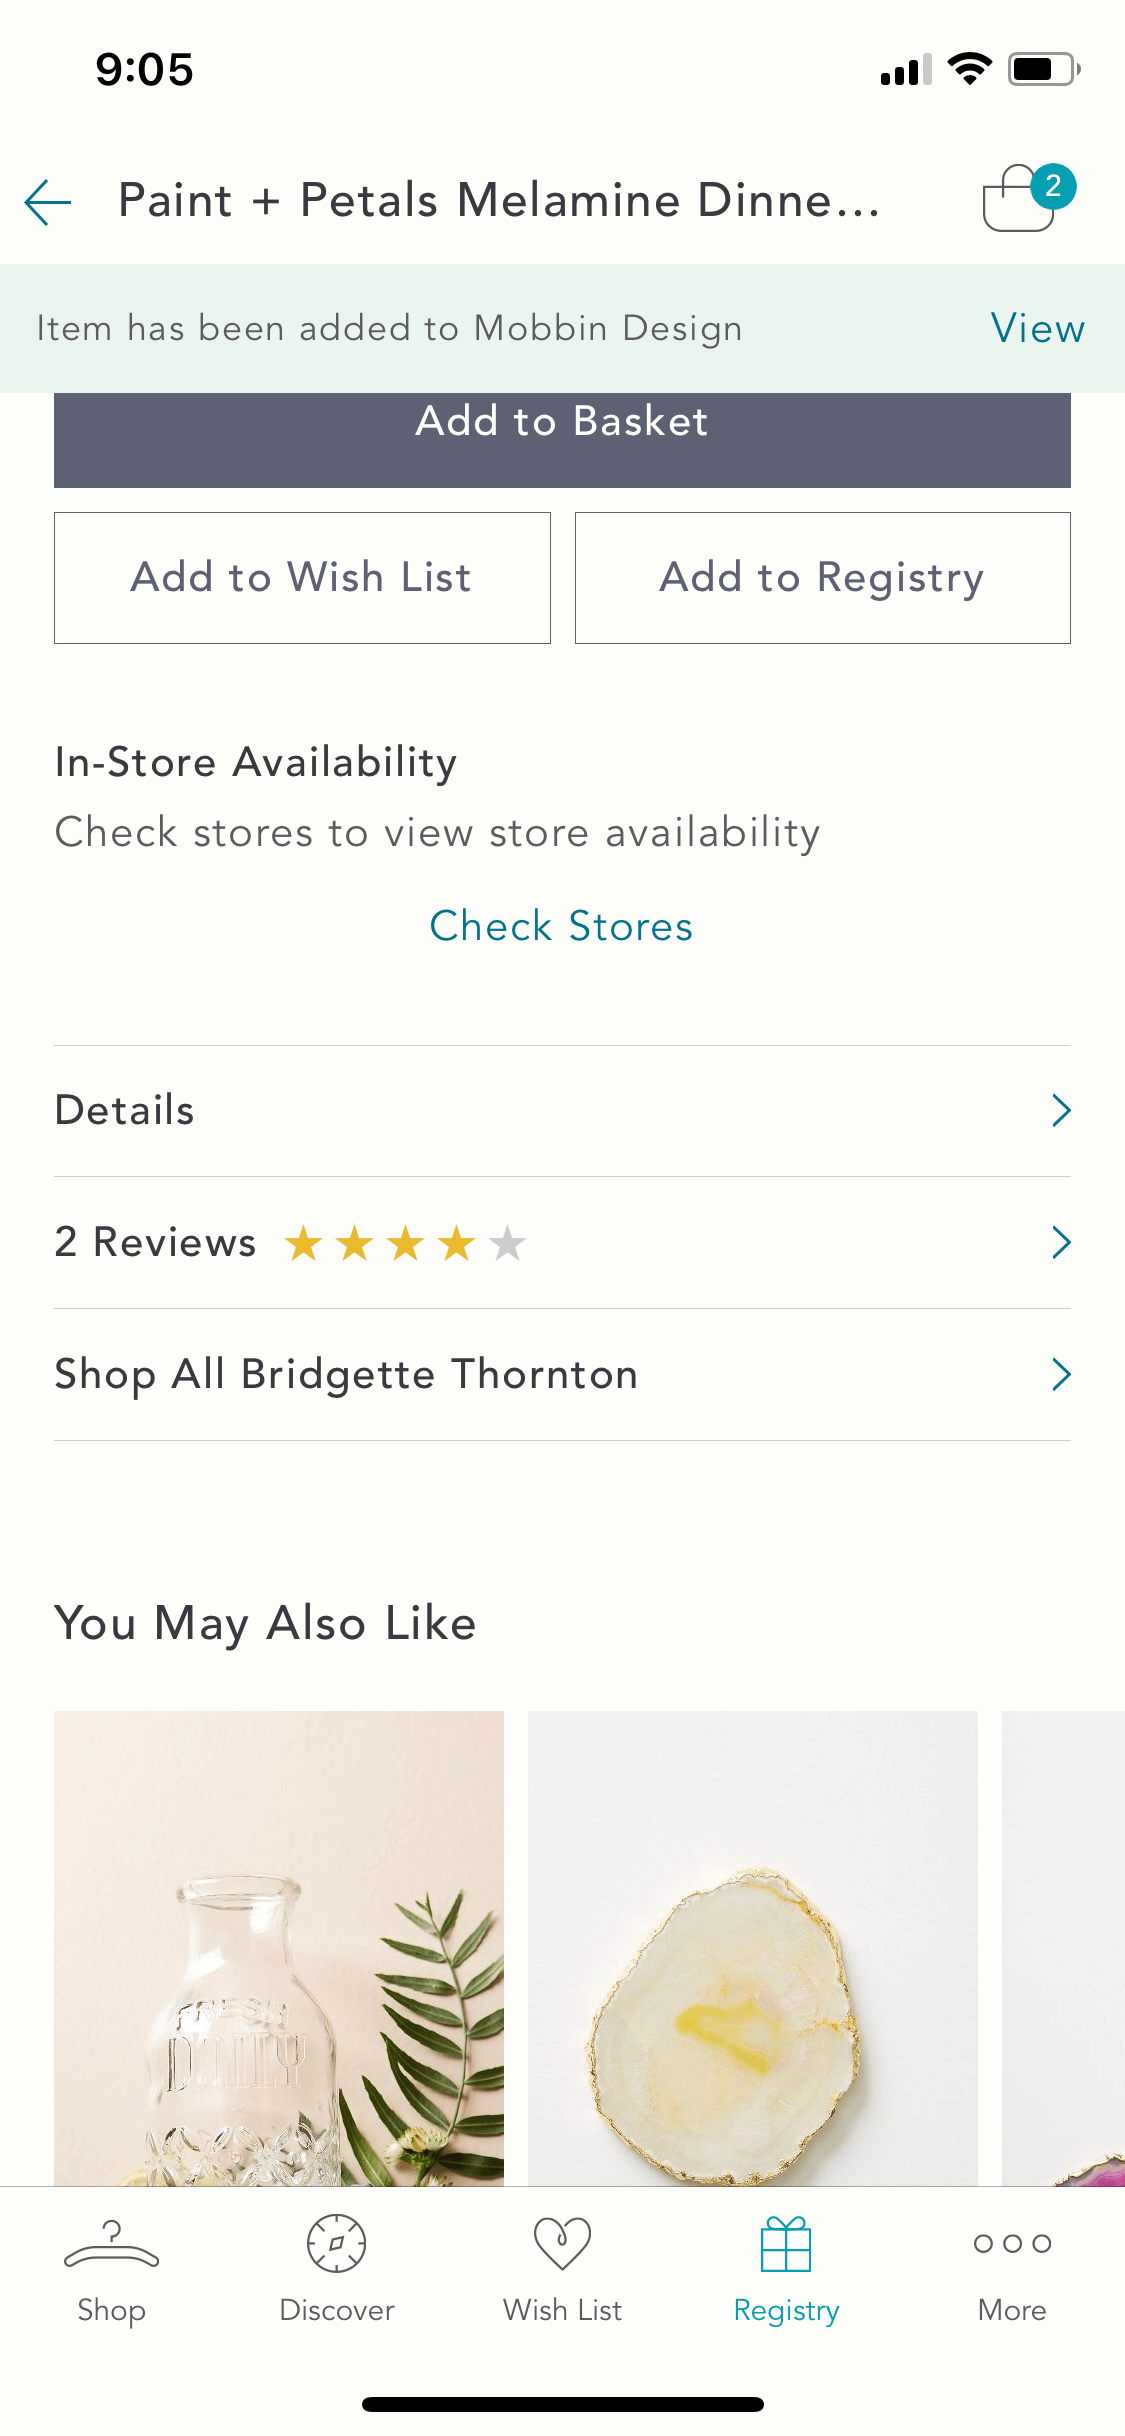Buttons: (45, 378, 1080, 497), (555, 503, 1080, 662), (37, 510, 559, 663), (367, 876, 757, 969), (970, 140, 1078, 252), (2, 140, 96, 250)
Rating: (280, 1195, 549, 1280)
